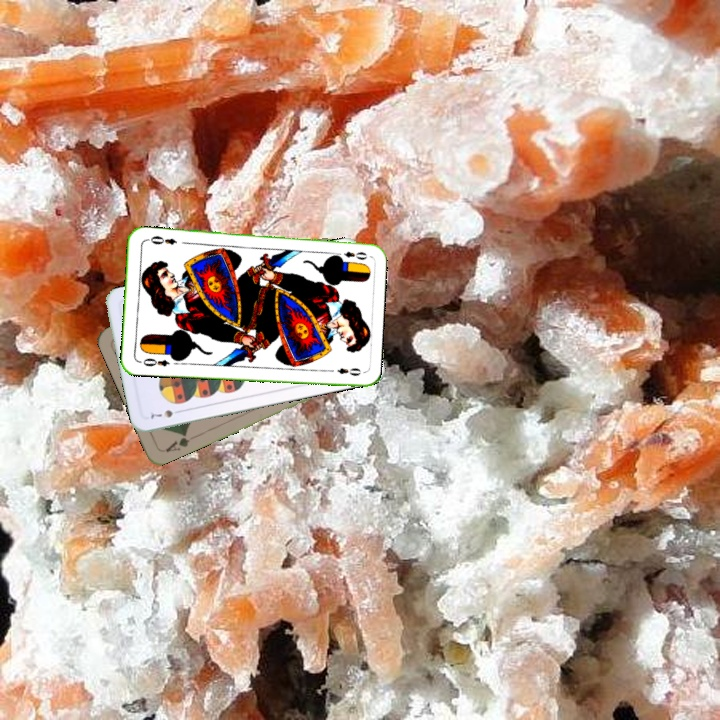EO: (139, 354, 172, 369), (340, 247, 369, 262)
GA: (161, 428, 192, 455)
S7: (145, 406, 185, 421)
